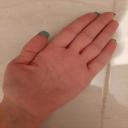OpenPalm: (2, 10, 118, 121)
